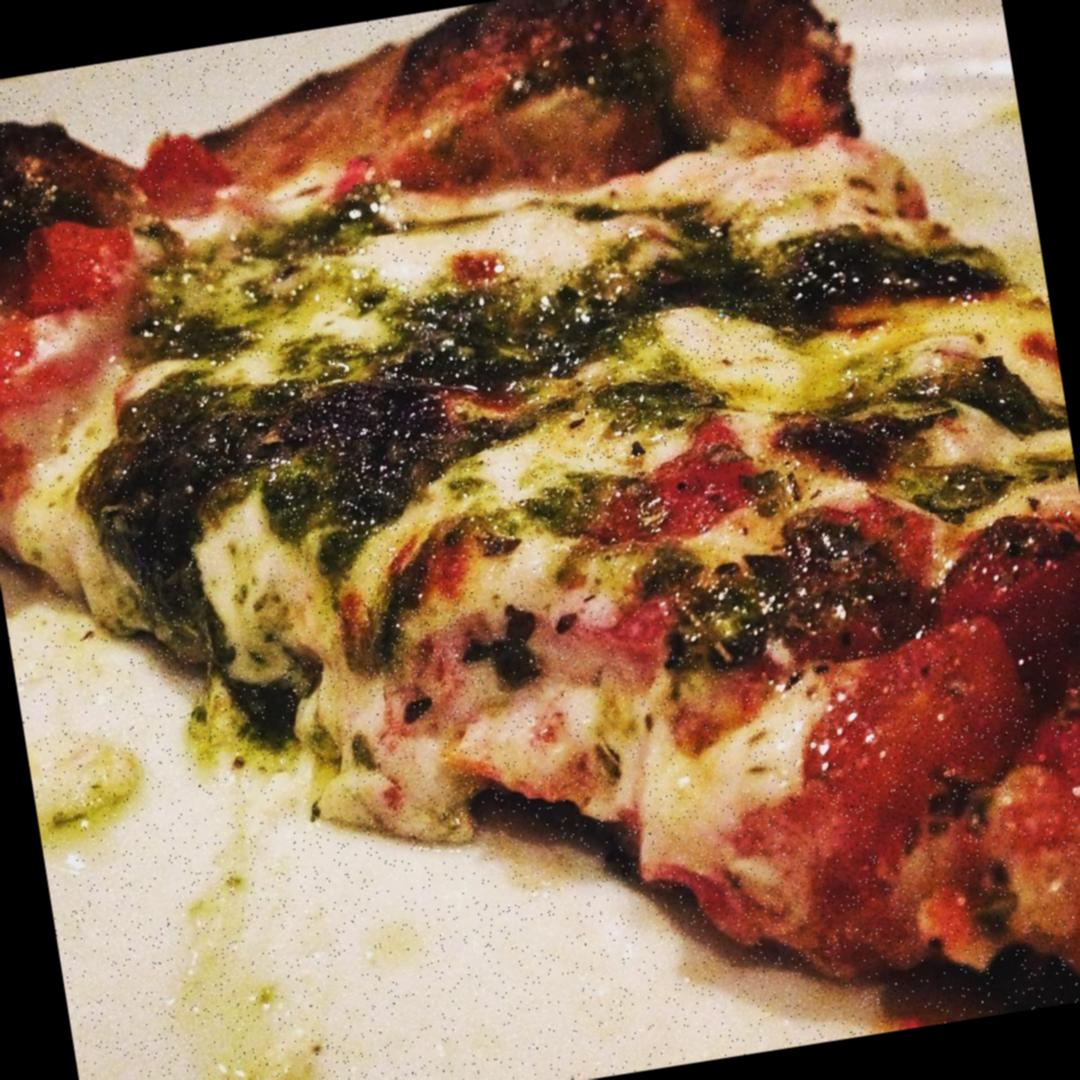Cheese: (674, 130, 859, 250), (365, 206, 581, 308), (655, 292, 803, 407)
Pizza: (0, 0, 1080, 1080)
Tomatoes: (550, 433, 802, 658), (788, 624, 1036, 821), (360, 524, 497, 727), (929, 505, 1080, 685)
